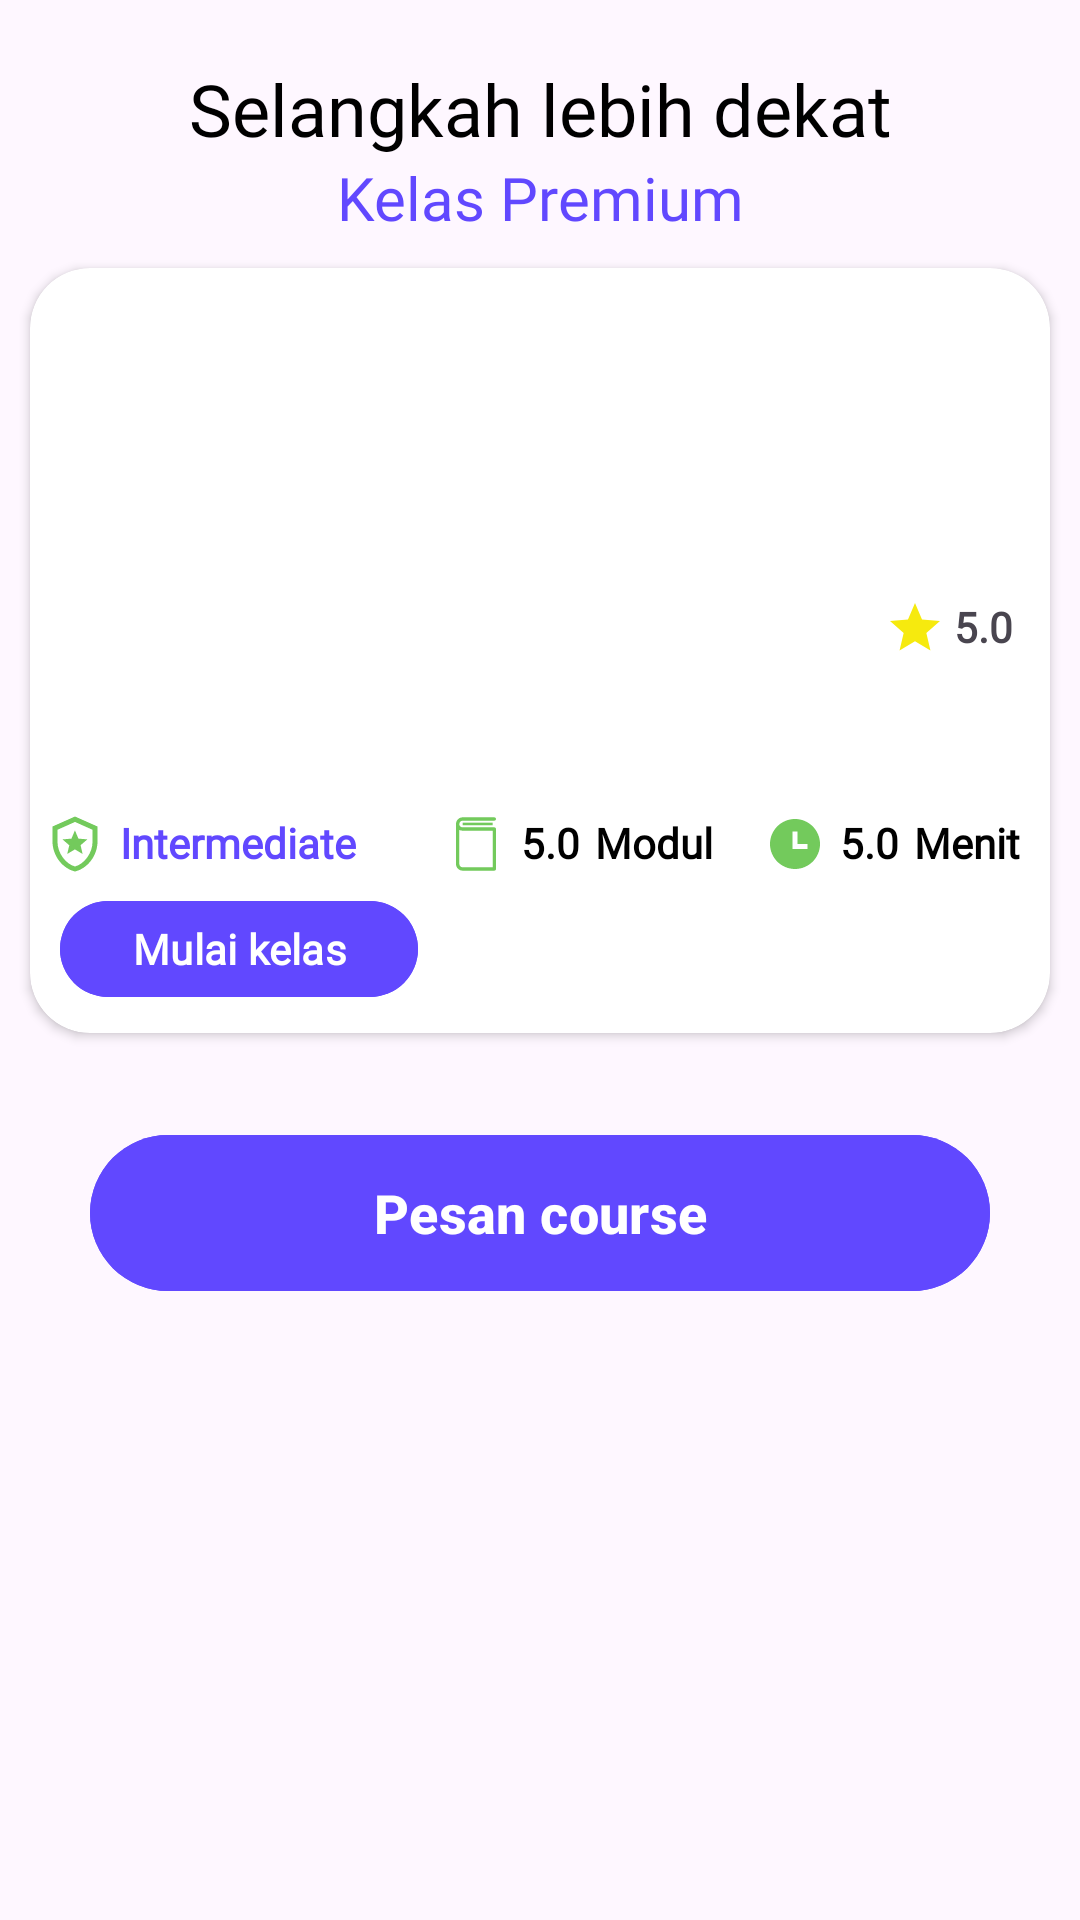

Icons on this 1080w x 1920h Android screen, each with the point to tap as (x,y):
level: (75,844)
star: (915,627)
time: (795,844)
